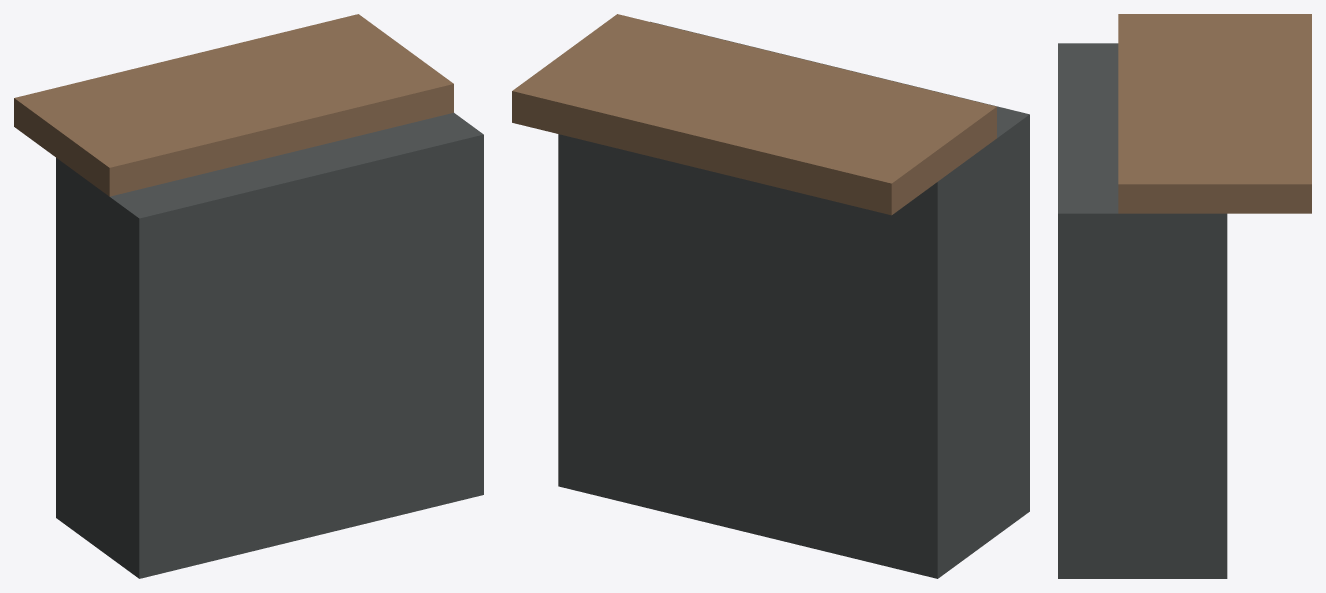
The model's file is df_plateau_edge_a.glb.
3 renders of one model, left to right at view 1: azimuth 30°, elevation 25°; view 2: azimuth 150°, elevation 25°; view 3: azimuth 270°, elevation 25°, orthographic. The views are drawn at different scales.
Parts seen in each view (by area): view 1: plateau_edge_slab, mud_top; view 2: plateau_edge_slab, mud_top; view 3: plateau_edge_slab, mud_top.
Boxes of the visible parts, bbox=[...] form: plateau_edge_slab: bbox=[56, 112, 483, 578]; mud_top: bbox=[14, 14, 453, 196]; plateau_edge_slab: bbox=[558, 21, 1029, 578]; mud_top: bbox=[512, 14, 996, 215]; plateau_edge_slab: bbox=[1058, 43, 1227, 578]; mud_top: bbox=[1118, 14, 1311, 213].
Bounding box in the file's own units: 1 × 1.08 × 0.63.
